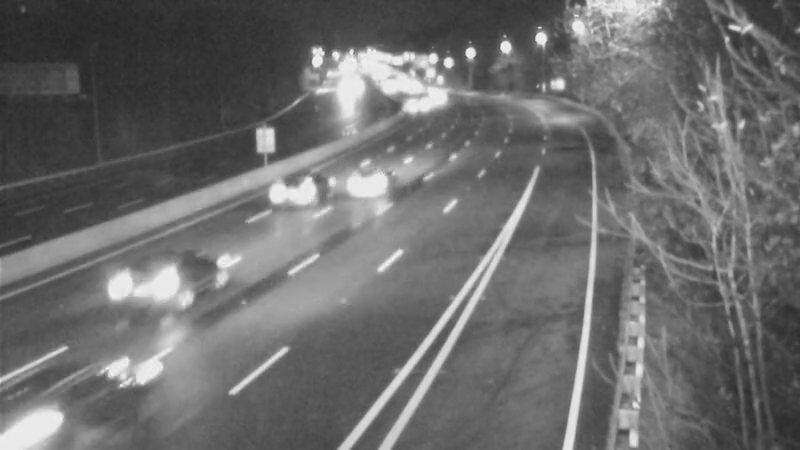vehicle: (1, 356, 99, 450), (335, 143, 415, 223), (250, 154, 330, 234), (133, 245, 213, 325), (413, 70, 463, 120), (386, 79, 436, 129)
